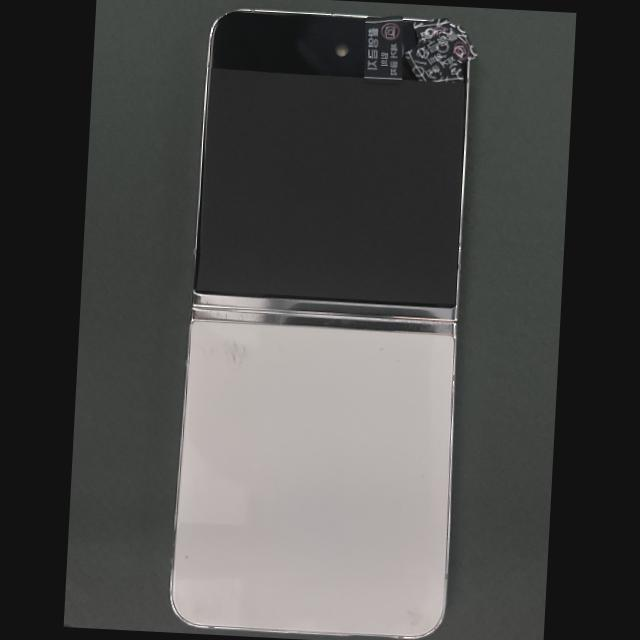phone: (170, 11, 472, 637)
sticker: (404, 25, 478, 83), (364, 16, 403, 85), (412, 18, 450, 44)
